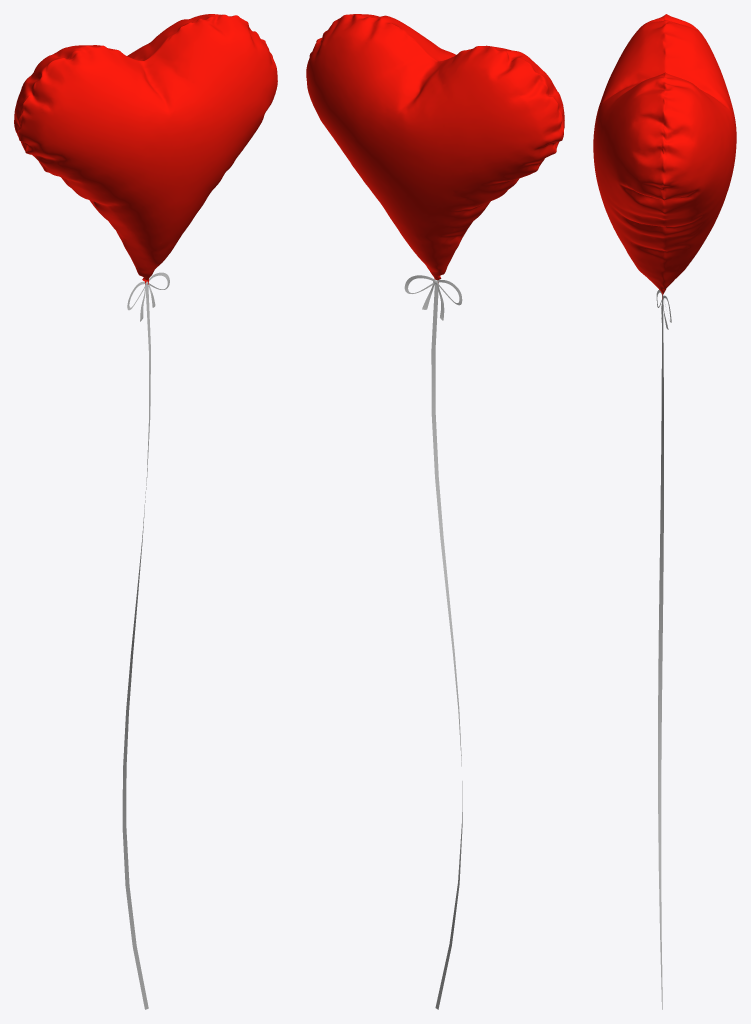
3 views of the same model, side by side, from view 1: azimuth 30°, elevation 25°; view 2: azimuth 150°, elevation 25°; view 3: azimuth 270°, elevation 25° (orthographic). The views are drawn at different scales.
Visible parts, largest first — view 1: Valentines-Heart-blank; view 2: Valentines-Heart-blank; view 3: Valentines-Heart-blank.
Part boxes in pixels (x1,y1,x2,y2): Valentines-Heart-blank: (14,14,277,1009); Valentines-Heart-blank: (306,14,564,1009); Valentines-Heart-blank: (593,14,736,1009).
Size of the model in its own units: 49.11 by 179 by 24.19.
